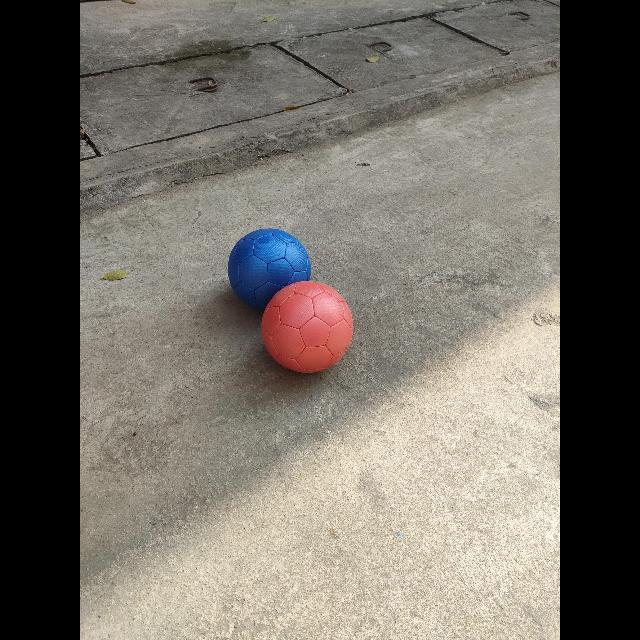B: (228, 229, 311, 310)
R: (261, 281, 352, 372)
